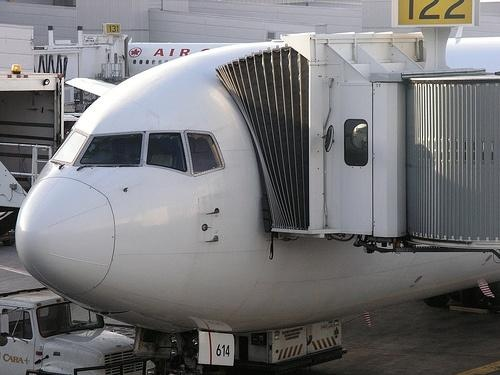aeroplane: (15, 37, 500, 366)
